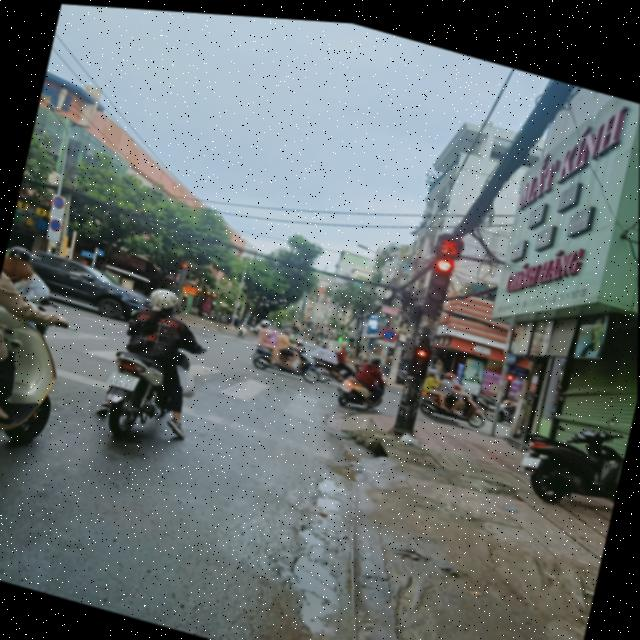Red: (425, 243, 458, 301), (409, 338, 432, 376)
